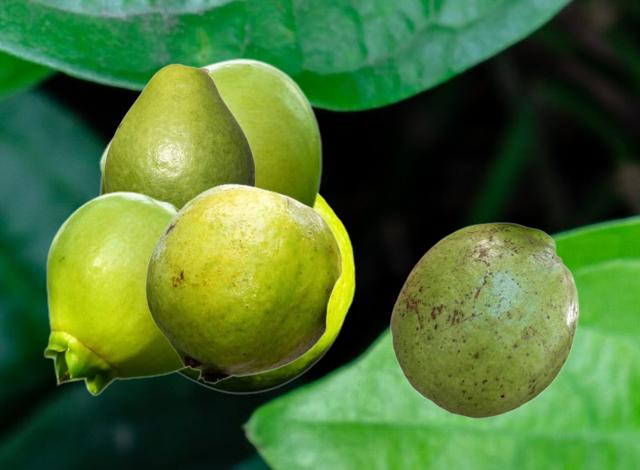guava: (145, 183, 342, 383), (389, 222, 578, 417), (177, 193, 354, 393), (96, 57, 322, 208), (43, 191, 184, 395), (104, 63, 254, 207)
